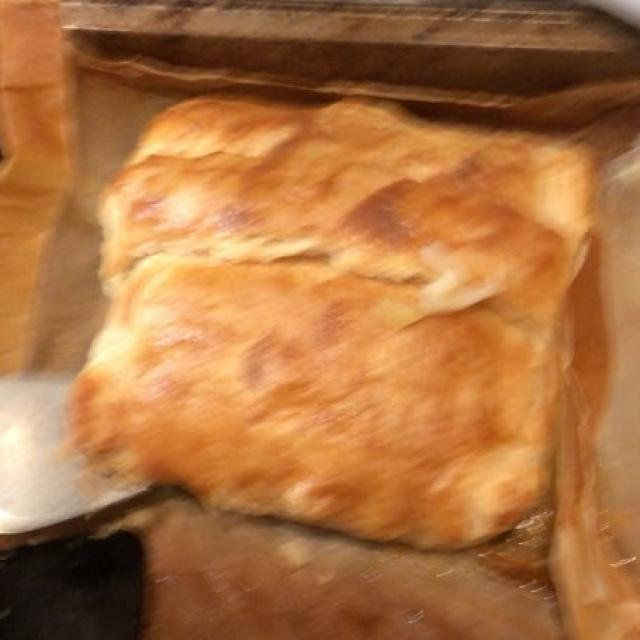meat-pie-empanadas: (77, 99, 600, 534)
